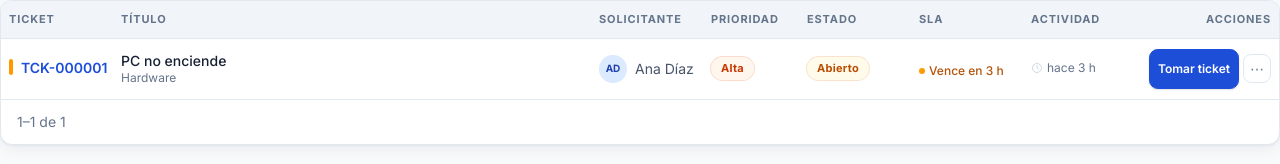
Test: TicketTable · el tooltip explica los metadatos de la fila › el tooltip del SLA da la fecha exacta, que en la celda sólo sale relativa
Hover over the text "Vence en 3 h".
mouse_move(961, 70)  # box [919,62,1004,78]
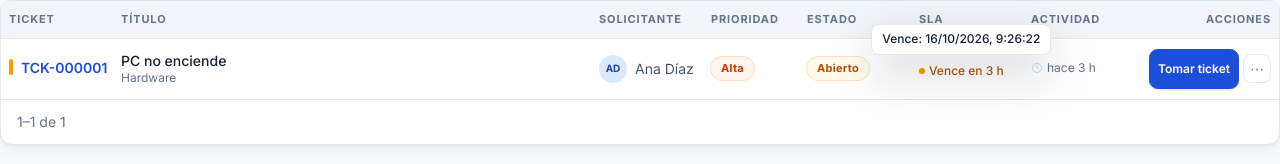
Expected: the tooltip "Vence: 16/10/2026, 9:26:22" is shown, [871,24,1051,54]
Expected: the tooltip shows "Vence:", [882,31,1040,46]
